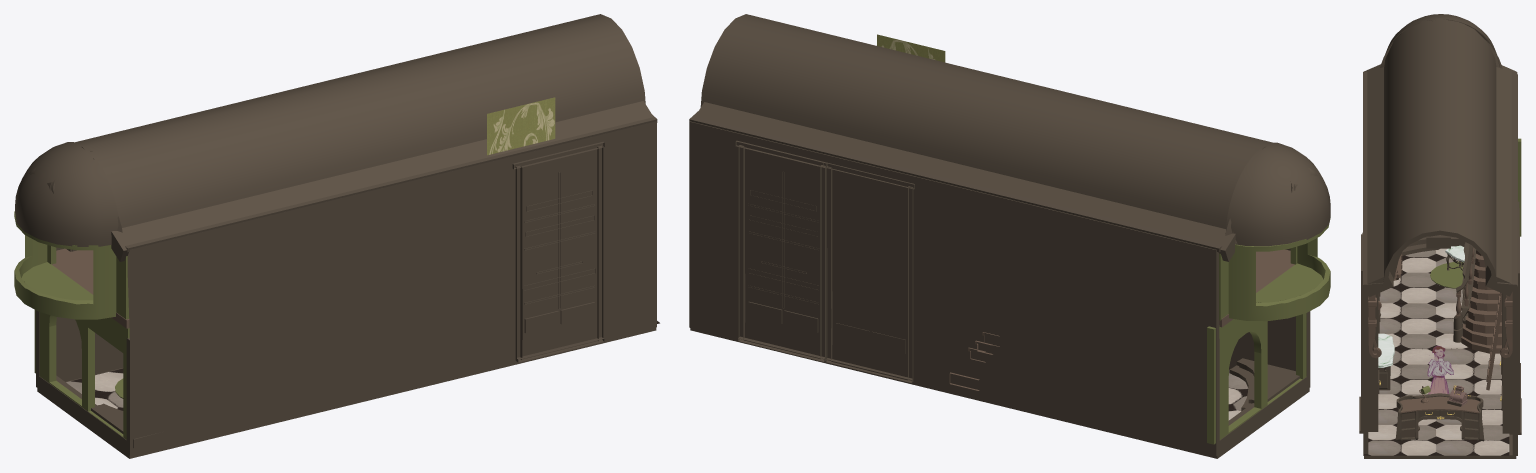
Rendered from bouquinerie.fbx.
3 renders of one model, left to right at view 1: azimuth 30°, elevation 25°; view 2: azimuth 150°, elevation 25°; view 3: azimuth 270°, elevation 25°, orthographic. The views are drawn at different scales.
Visible parts, largest first — view 1: bouqinerie; view 2: bouqinerie; view 3: bouqinerie.
Part boxes in pixels (<box>): bouqinerie: <box>14,14,659,458</box>; bouqinerie: <box>689,14,1330,458</box>; bouqinerie: <box>1359,14,1521,458</box>.
Size of the model in its own units: 9.62 by 4.33 by 2.78.
